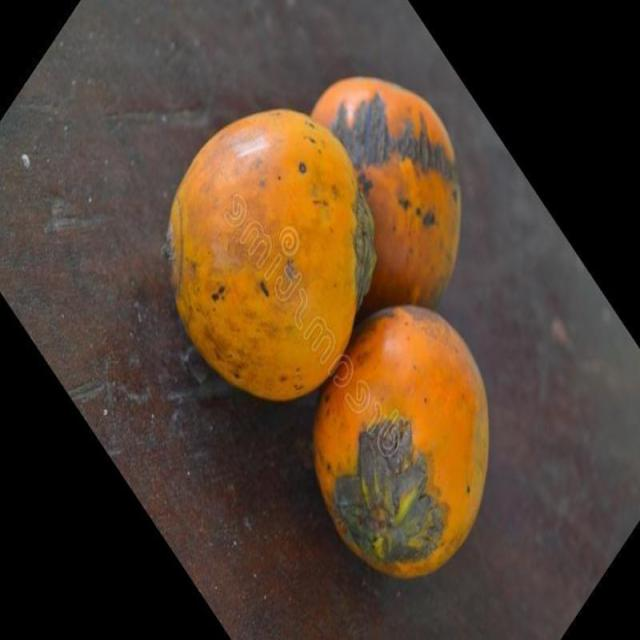good: (167, 109, 375, 403), (313, 304, 491, 582), (310, 79, 463, 320)
